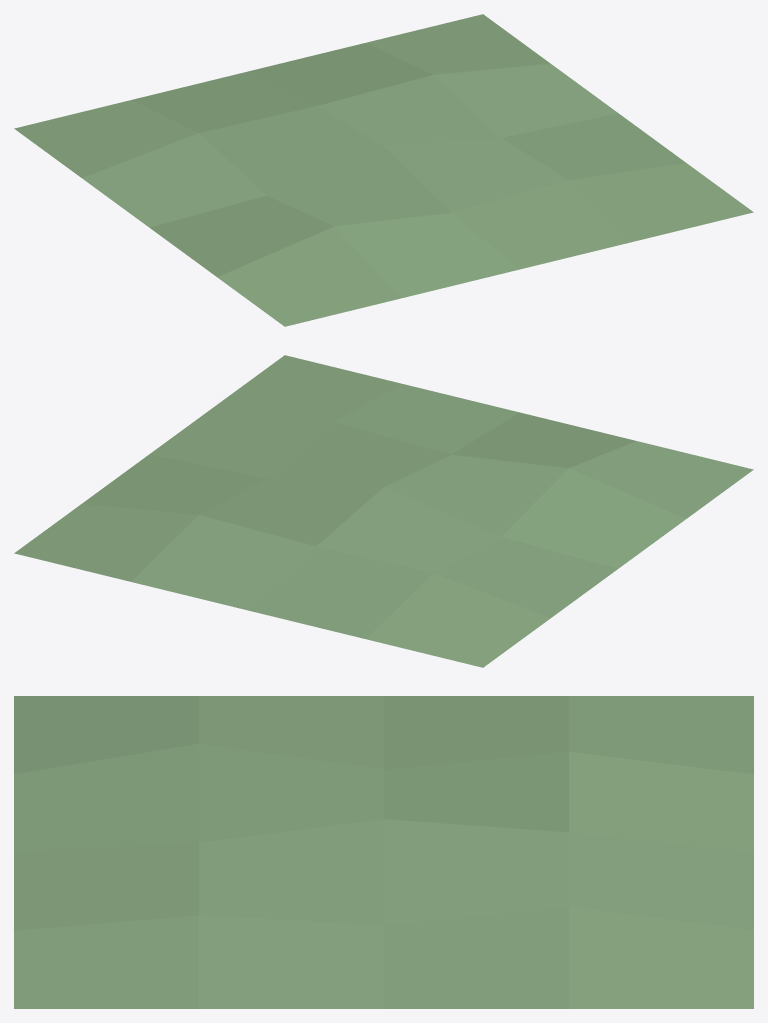
File: Tile_30_Moss.glb
The picture shows the model from 3 angles, top to bottom: view 1: azimuth 30°, elevation 25°; view 2: azimuth 150°, elevation 25°; view 3: azimuth 270°, elevation 25°; orthographic projection. The views are drawn at different scales.
Parts seen in each view (by area): view 1: Tile_Moss; view 2: Tile_Moss; view 3: Tile_Moss.
Boxes of the visible parts, left/top/right/bottom form: Tile_Moss: left=14, top=14, right=753, bottom=326; Tile_Moss: left=14, top=355, right=753, bottom=667; Tile_Moss: left=14, top=696, right=753, bottom=1008.
Bounding box in the file's own units: 0.2 × 0.00995 × 0.2.
